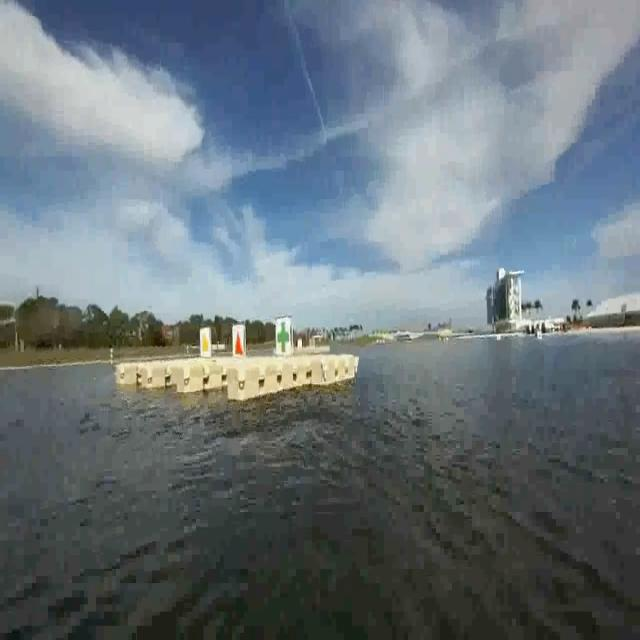blue-cross: (275, 318, 293, 354)
red-dot: (232, 322, 248, 356)
yellow-duck: (199, 324, 211, 358)
